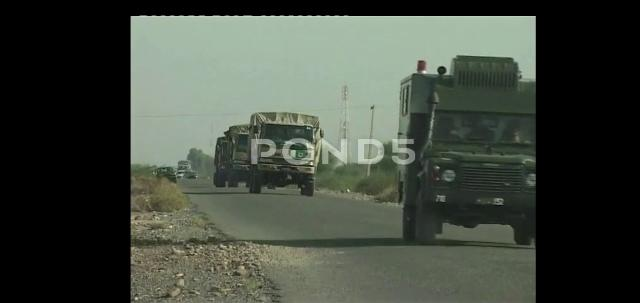plate: (475, 196, 505, 206)
